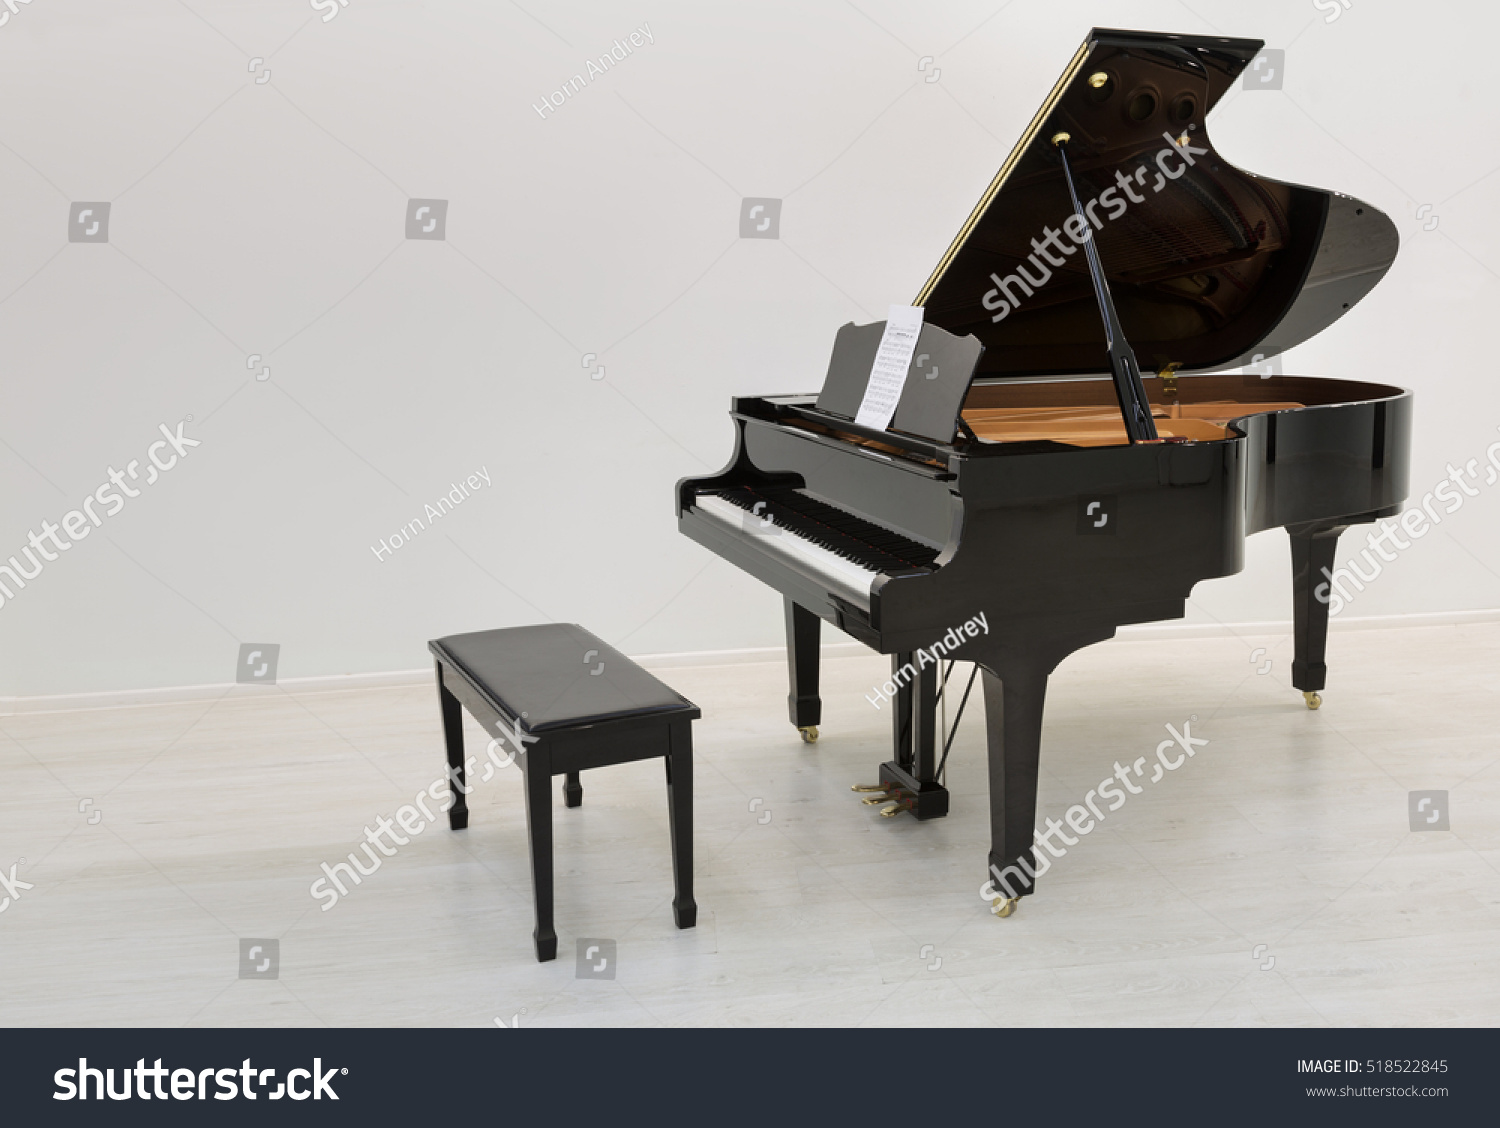Piano: (601, 15, 1408, 978)
